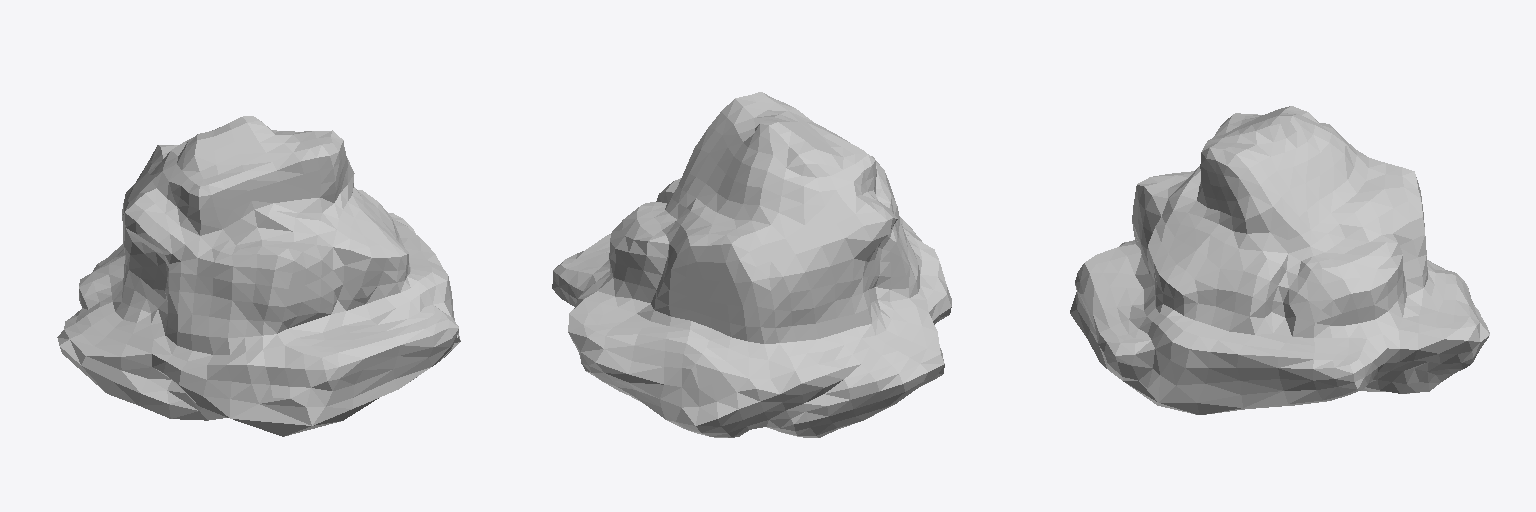
File: Rock_6.OBJ
3 views of the same model, side by side, from view 1: azimuth 30°, elevation 25°; view 2: azimuth 150°, elevation 25°; view 3: azimuth 270°, elevation 25° (orthographic).
Parts seen in each view (by area): view 1: Rock_6; view 2: Rock_6; view 3: Rock_6.
Boxes of the visible parts, box(x1,y1,x2,y2) form: Rock_6: box(57, 116, 460, 436); Rock_6: box(552, 92, 951, 437); Rock_6: box(1070, 106, 1489, 414).
Size of the model in its own units: 2.6 by 1.9 by 2.65.